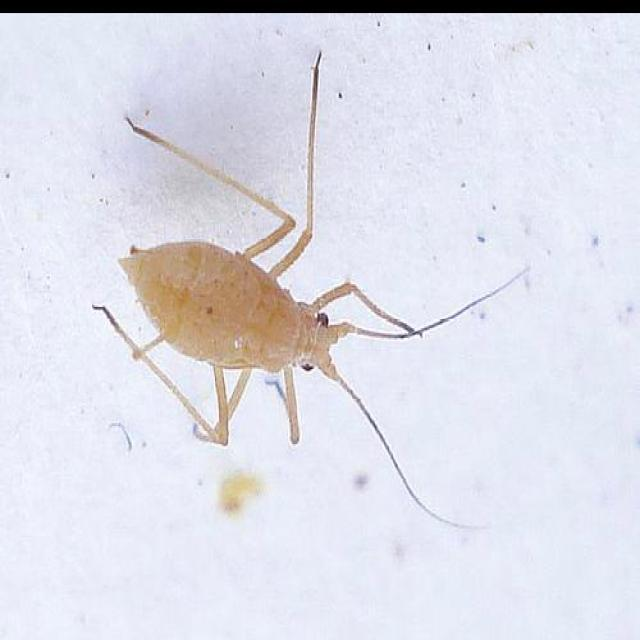aphid: (92, 114, 503, 500)
